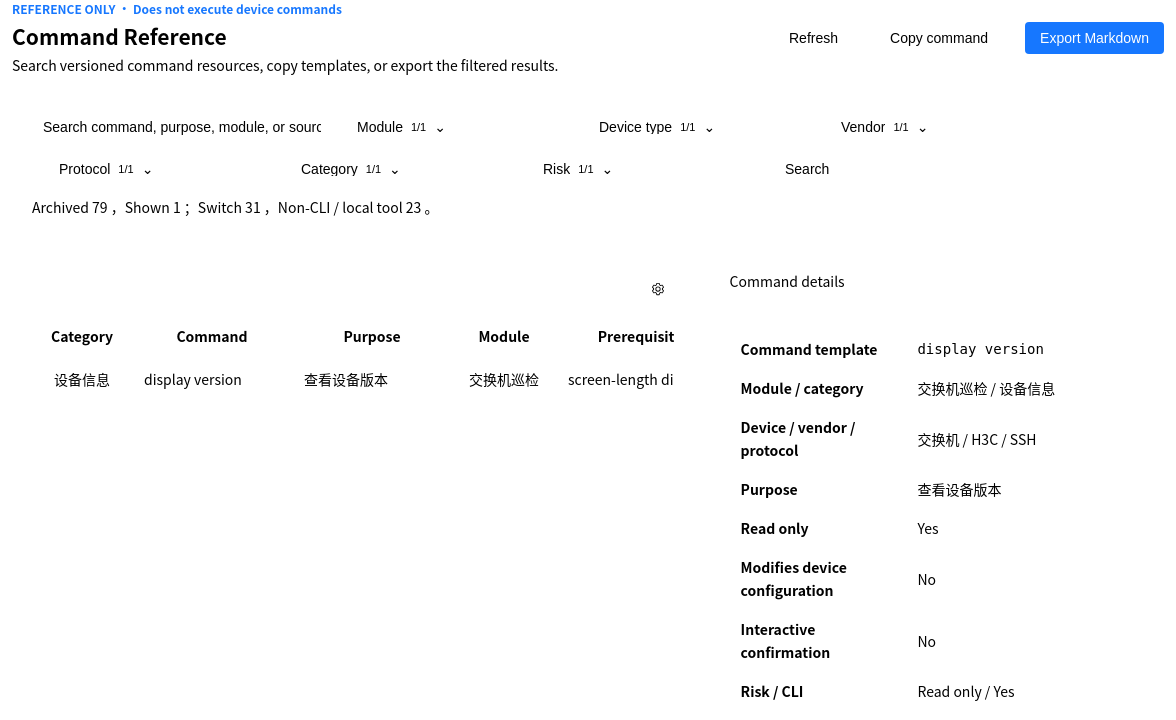
Test: Command Reference mounted behavior › consumes the shared dynamic application locale
Step 1. Click the button "Export Markdown" → {"x": 1095, "y": 38}, box [1025,22,1164,54]
(page scrolled)
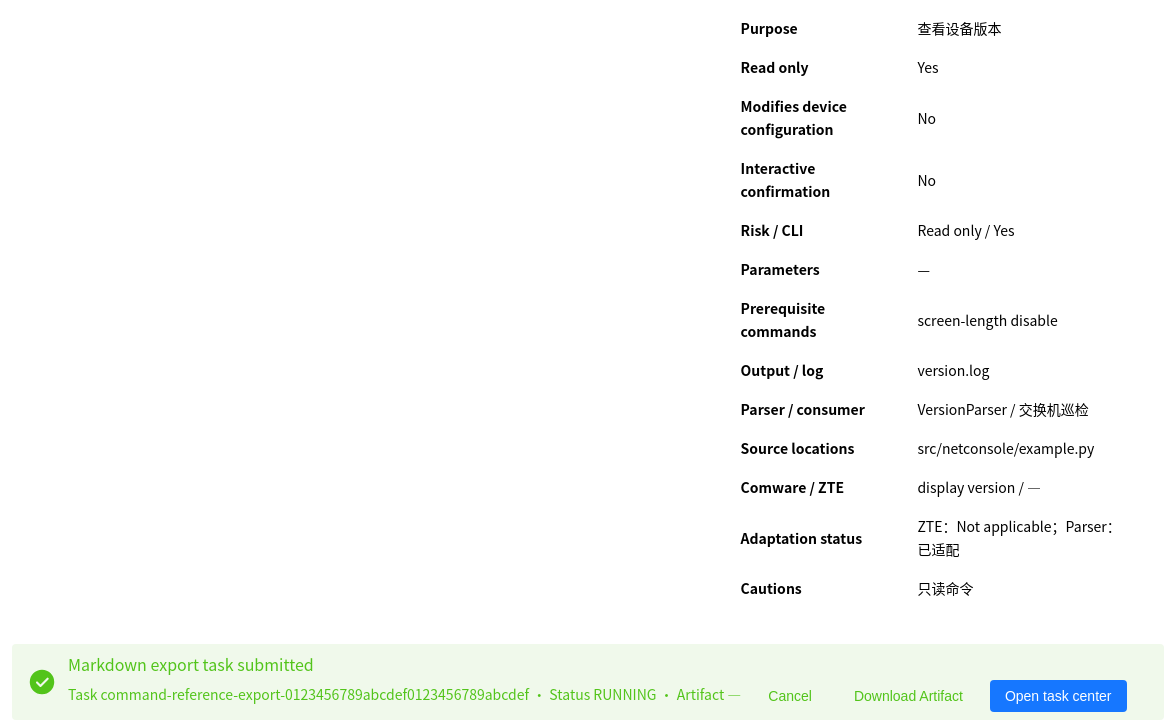
Result: the button "Open task center" is shown at [990,680,1126,712]
